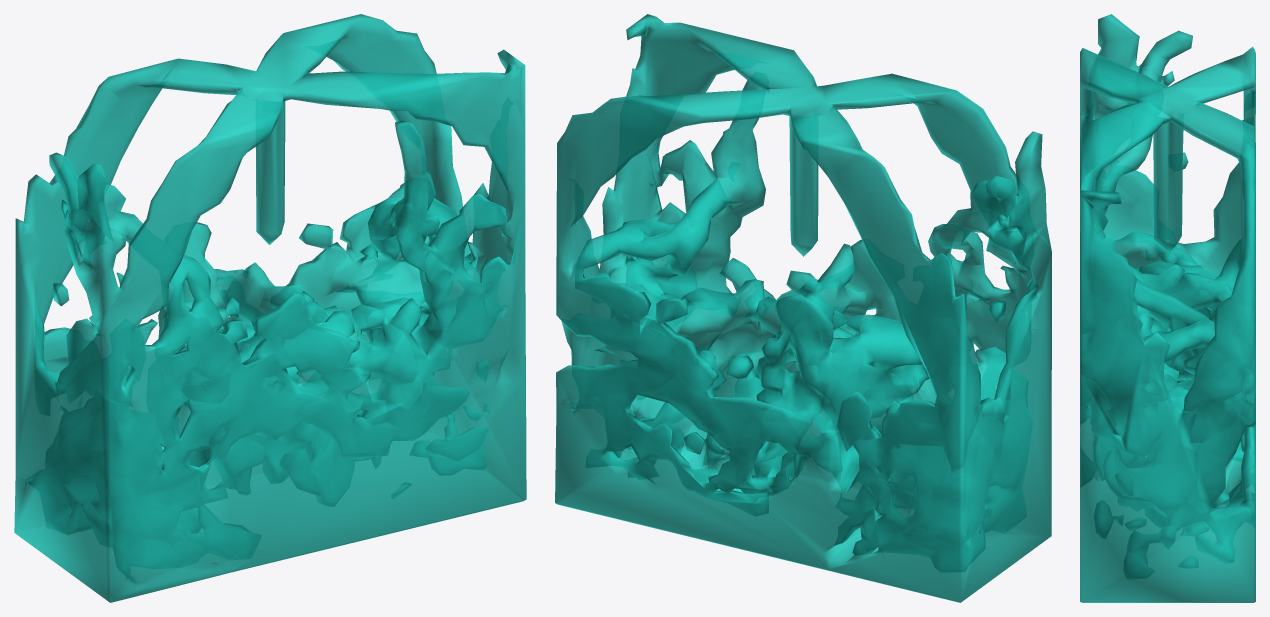
The picture shows the model from 3 angles, left to right: view 1: azimuth 30°, elevation 25°; view 2: azimuth 150°, elevation 25°; view 3: azimuth 270°, elevation 25°; orthographic projection. The views are drawn at different scales.
Visible parts, largest first — view 1: Liquid_Domain; view 2: Liquid_Domain; view 3: Liquid_Domain.
Boxes of the visible parts, box(x1,y1,x2,y2) form: Liquid_Domain: box(14, 14, 526, 602); Liquid_Domain: box(555, 14, 1051, 602); Liquid_Domain: box(1080, 14, 1255, 602).
Size of the model in its own units: 884 by 884 by 344.
